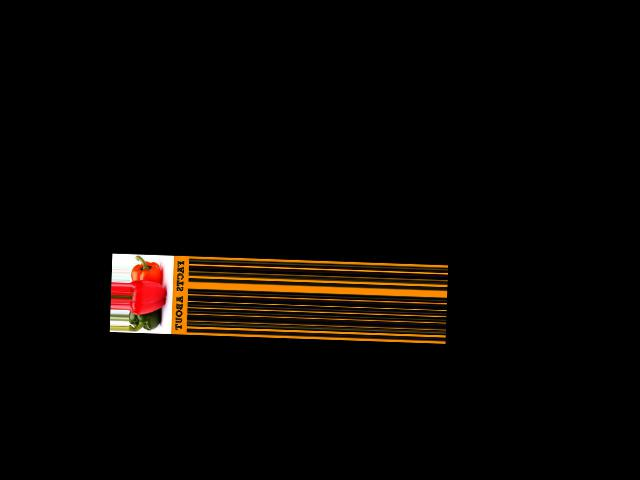bell_pepper: (129, 311, 166, 332)
